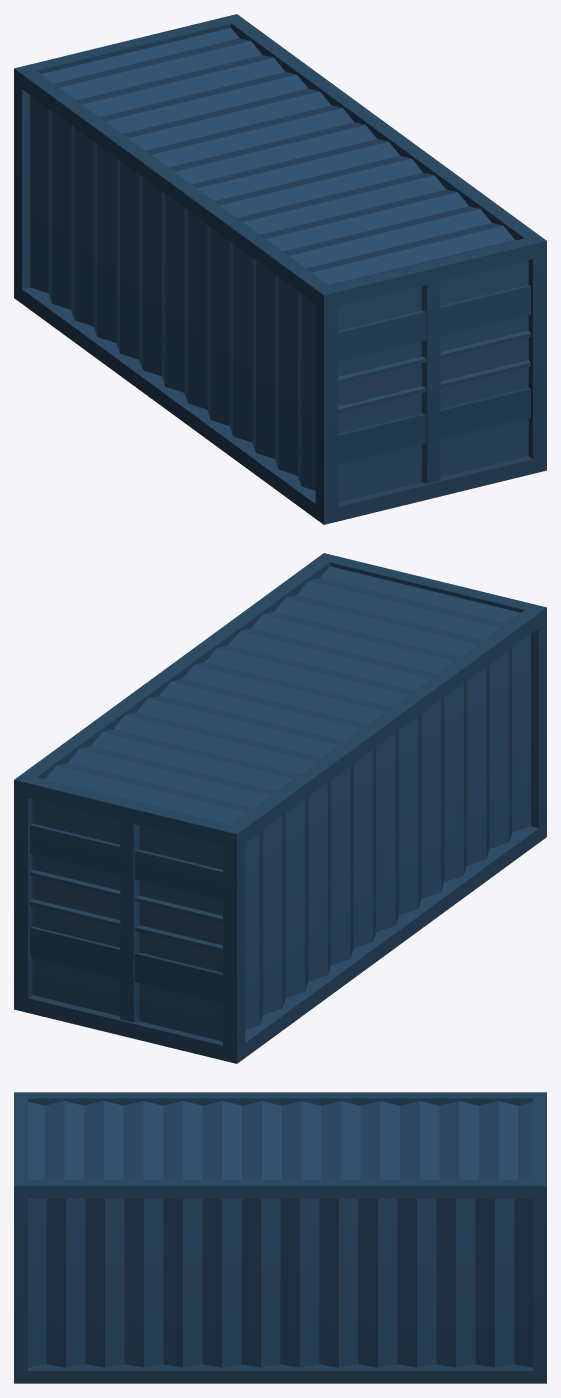
File: Container_1_4.fbx
3 views of the same model, one above another, from view 1: azimuth 30°, elevation 25°; view 2: azimuth 150°, elevation 25°; view 3: azimuth 270°, elevation 25° (orthographic). The views are drawn at different scales.
Parts seen in each view (by area): view 1: Container_1_4; view 2: Container_1_4; view 3: Container_1_4.
Boxes of the visible parts, bbox=[...] form: Container_1_4: bbox=[14, 14, 546, 524]; Container_1_4: bbox=[14, 553, 546, 1063]; Container_1_4: bbox=[14, 1092, 546, 1383].
Size of the model in its own units: 198 by 195 by 477.
